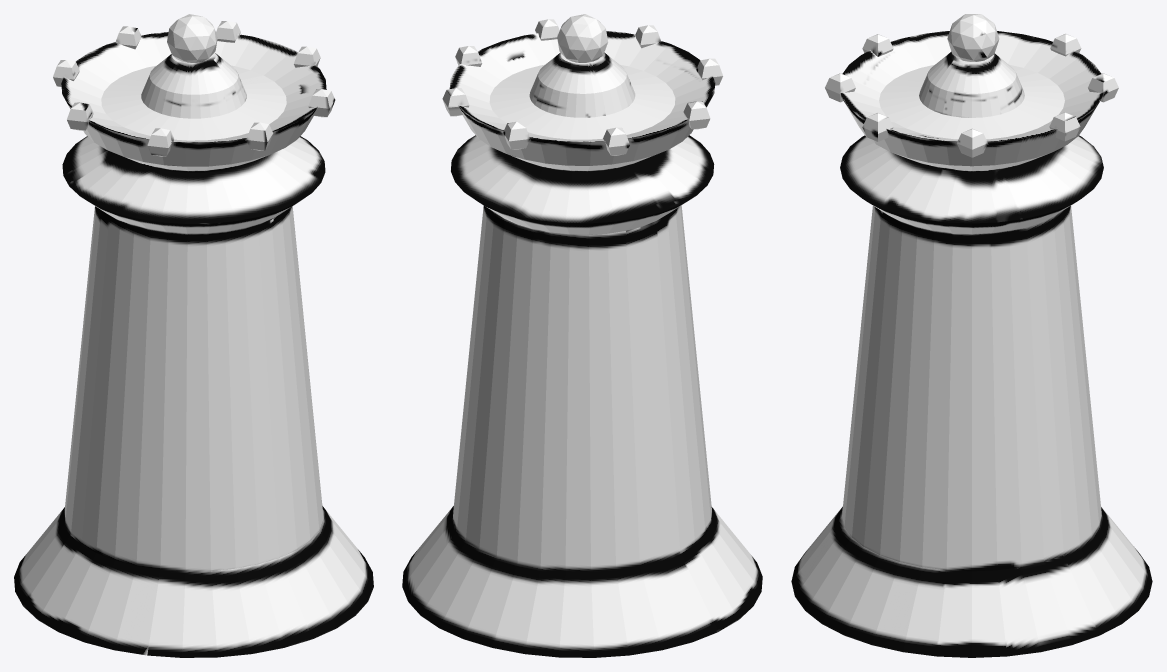
File: w_queen.dae
3 renders of one model, left to right at view 1: azimuth 30°, elevation 25°; view 2: azimuth 150°, elevation 25°; view 3: azimuth 270°, elevation 25°, orthographic.
Visible parts, largest first — view 1: QUEEN; view 2: QUEEN; view 3: QUEEN.
Boxes of the visible parts, bbox=[...] form: QUEEN: bbox=[14, 14, 373, 657]; QUEEN: bbox=[402, 14, 762, 657]; QUEEN: bbox=[791, 14, 1152, 657].
Size of the model in its own units: 2.31 by 2.31 by 4.
Materials: 1 (1 with a texture image).
